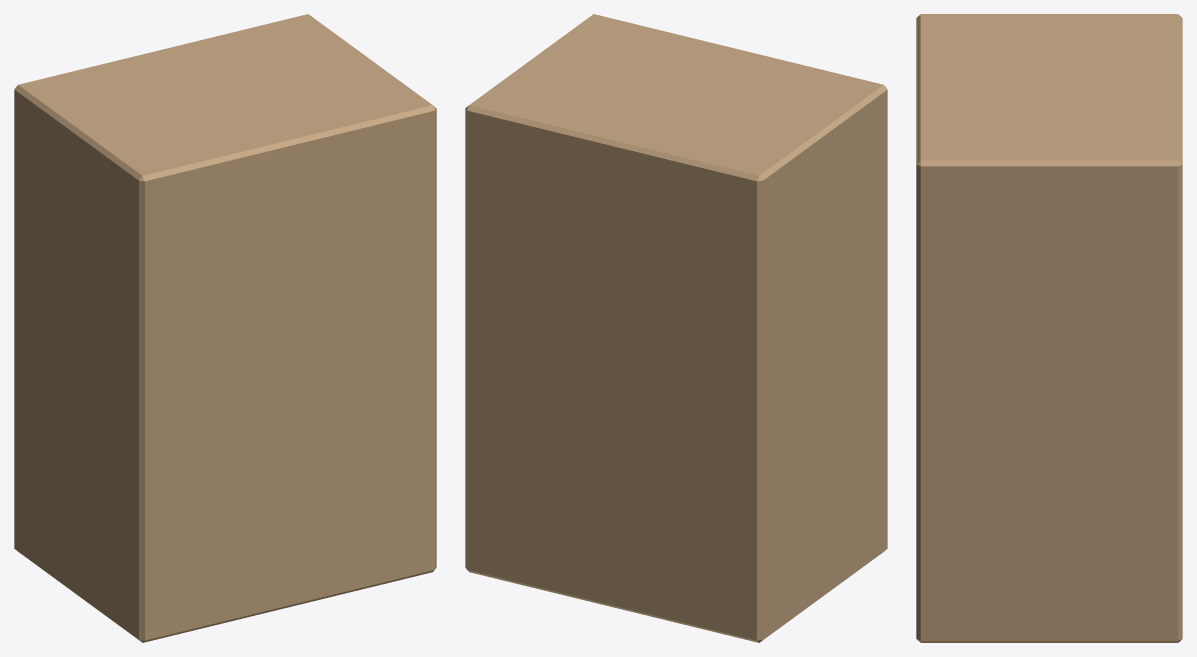
File: prop_proxy_booster_01.glb
The picture shows the model from 3 angles, left to right: view 1: azimuth 30°, elevation 25°; view 2: azimuth 150°, elevation 25°; view 3: azimuth 270°, elevation 25°; orthographic projection. The views are drawn at different scales.
Visible parts, largest first — view 1: prop_proxy_booster_01; view 2: prop_proxy_booster_01; view 3: prop_proxy_booster_01.
Boxes of the visible parts, x1,y1,x2,y2 form: prop_proxy_booster_01: (14,14,436,642); prop_proxy_booster_01: (465,14,887,642); prop_proxy_booster_01: (916,14,1182,642).
Bounding box in the file's own units: 0.08 × 0.12 × 0.06.
